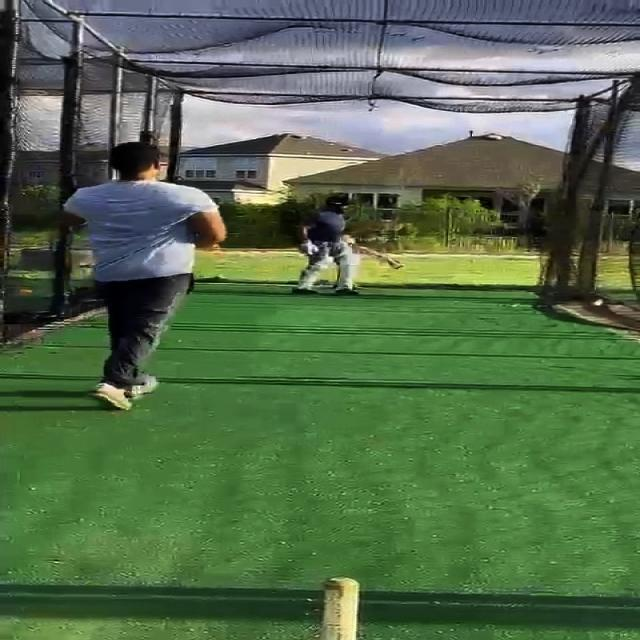batsman: (292, 194, 404, 298)
